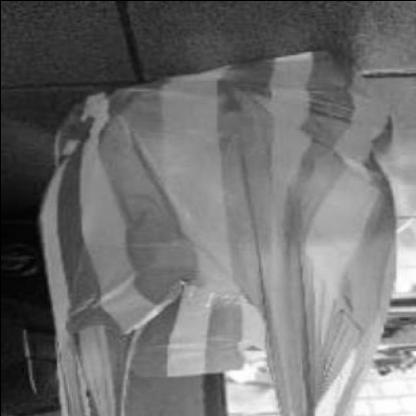objects: (37, 53, 392, 416)
